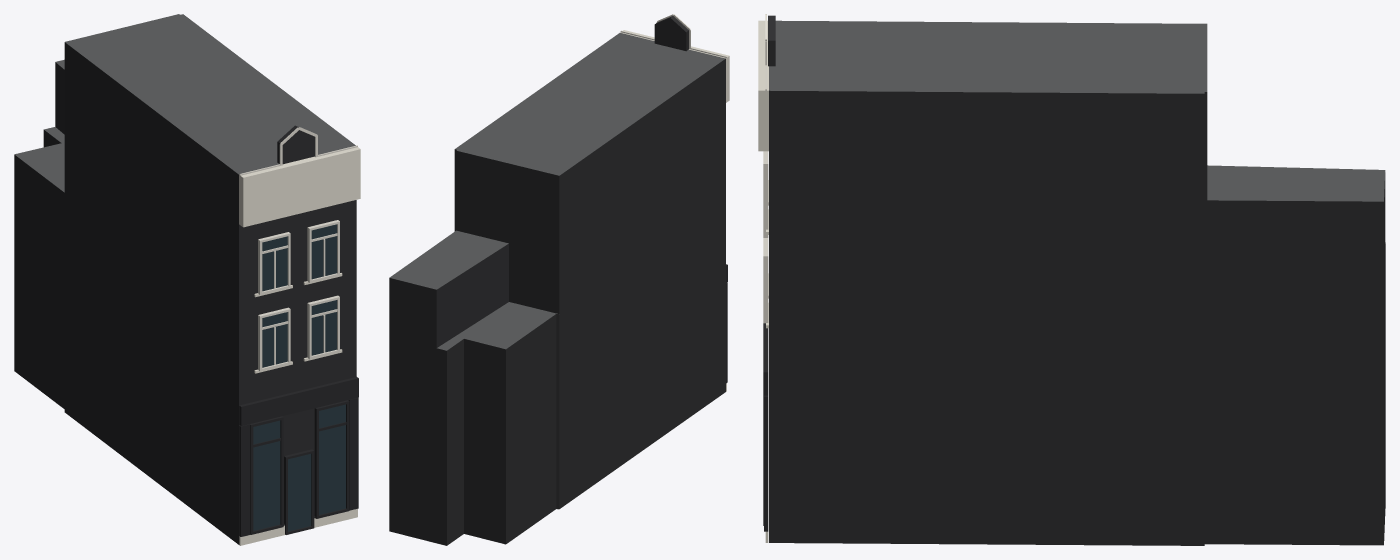
3 renders of one model, left to right at view 1: azimuth 30°, elevation 25°; view 2: azimuth 150°, elevation 25°; view 3: azimuth 270°, elevation 25°, orthographic. The views are drawn at different scales.
Visible parts, largest first — view 1: spec-0363100012177663; view 2: spec-0363100012177663; view 3: spec-0363100012177663.
Boxes of the visible parts, x1,y1,x2,y2 form: spec-0363100012177663: (14, 14, 360, 545); spec-0363100012177663: (389, 14, 729, 545); spec-0363100012177663: (758, 14, 1385, 545).
Size of the model in its own units: 4.14 by 13.03 by 15.
